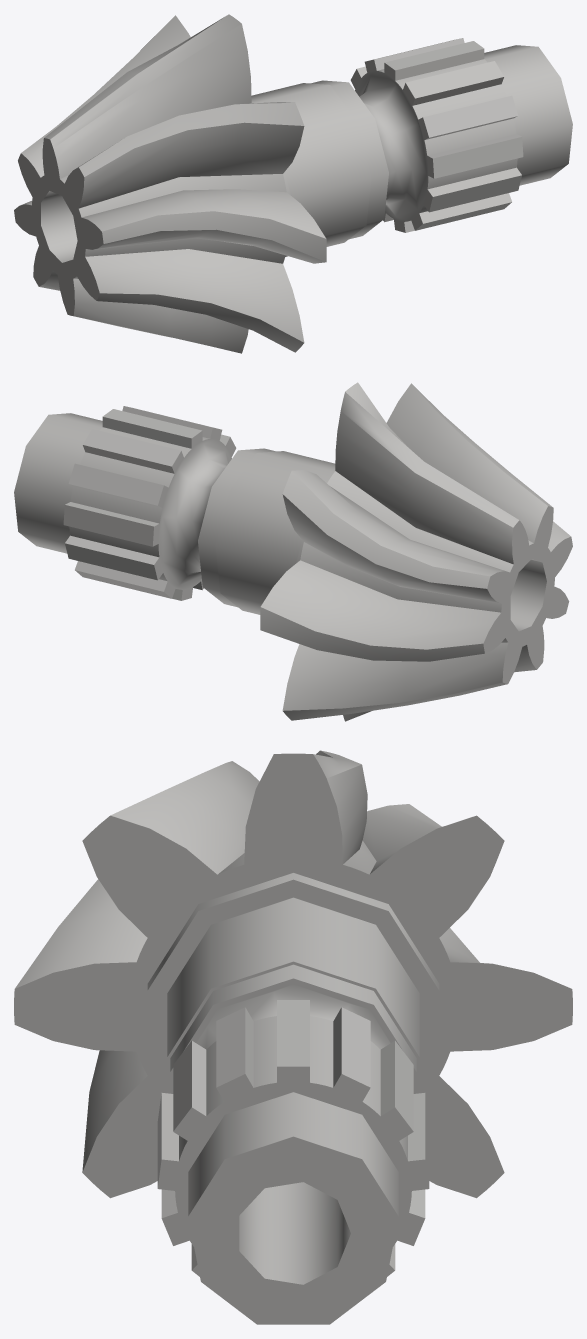
Rendered from eeee.glb.
3 renders of one model, top to bottom at view 1: azimuth 30°, elevation 25°; view 2: azimuth 150°, elevation 25°; view 3: azimuth 270°, elevation 25°, orthographic. The views are drawn at different scales.
Visible parts, largest first — view 1: node_id3; view 2: node_id3; view 3: node_id3.
Boxes of the visible parts, <box> form: node_id3: <box>14,14,572,353</box>; node_id3: <box>14,382,572,721</box>; node_id3: <box>14,750,572,1324</box>.
Size of the model in its own units: 0.512 by 0.3373 by 0.3373.
Materials: 1 (1 with a texture image).
